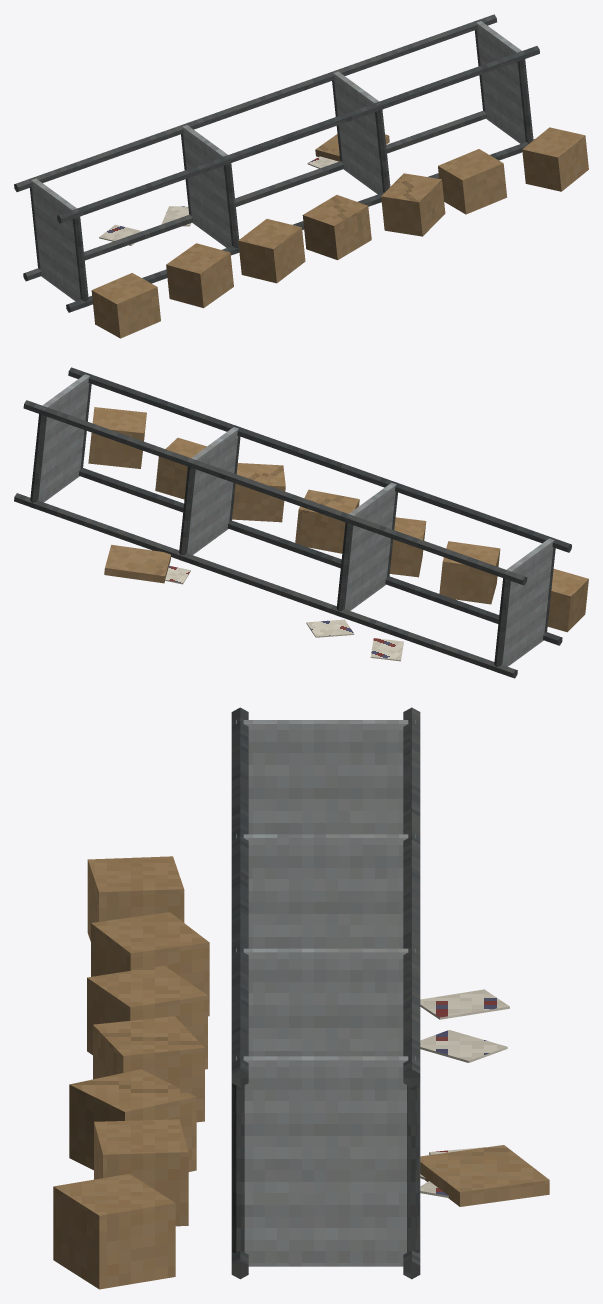
The model's file is shelf_fallen.glb.
The picture shows the model from 3 angles, top to bottom: view 1: azimuth 30°, elevation 25°; view 2: azimuth 150°, elevation 25°; view 3: azimuth 270°, elevation 25°; orthographic projection. The views are drawn at different scales.
Visible parts, largest first — view 1: body; view 2: body; view 3: body.
Part boxes in pixels (box(x1,y1,x2,y2)): body: box(14, 14, 588, 338); body: box(14, 367, 588, 678); body: box(53, 707, 549, 1289).
Bounding box in the file's own units: 2.93 × 0.874 × 1.27.
4 materials, 4 textured.
